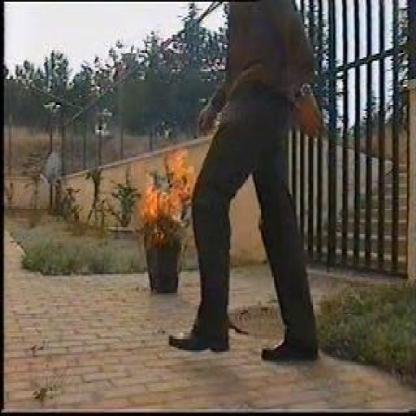foggia-v2-map80-epoch100 - v1 4323: (139, 152, 198, 226)
